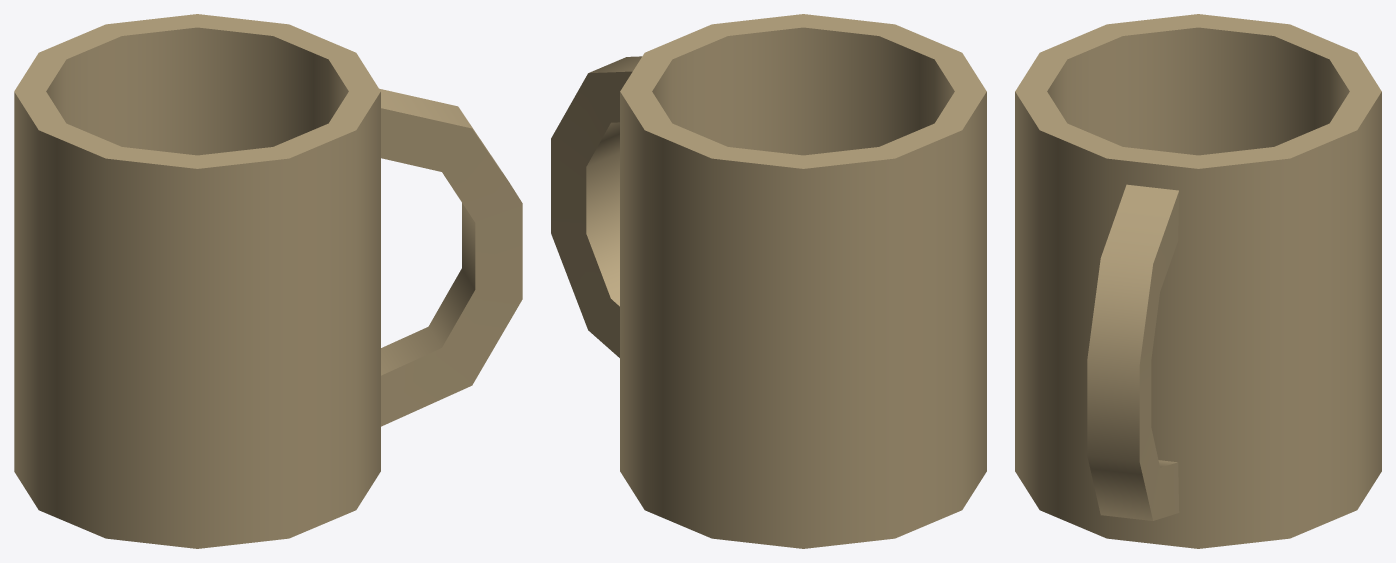
The model's file is mug.glb.
3 views of the same model, side by side, from view 1: azimuth 30°, elevation 25°; view 2: azimuth 150°, elevation 25°; view 3: azimuth 270°, elevation 25° (orthographic).
Visible parts, largest first — view 1: Cylinder; view 2: Cylinder; view 3: Cylinder.
Part boxes in pixels (bbox=[...]): Cylinder: bbox=[14, 14, 522, 548]; Cylinder: bbox=[551, 14, 986, 548]; Cylinder: bbox=[1015, 14, 1381, 548].
Bounding box in the file's own units: 11.79 × 9.72 × 8.5.
